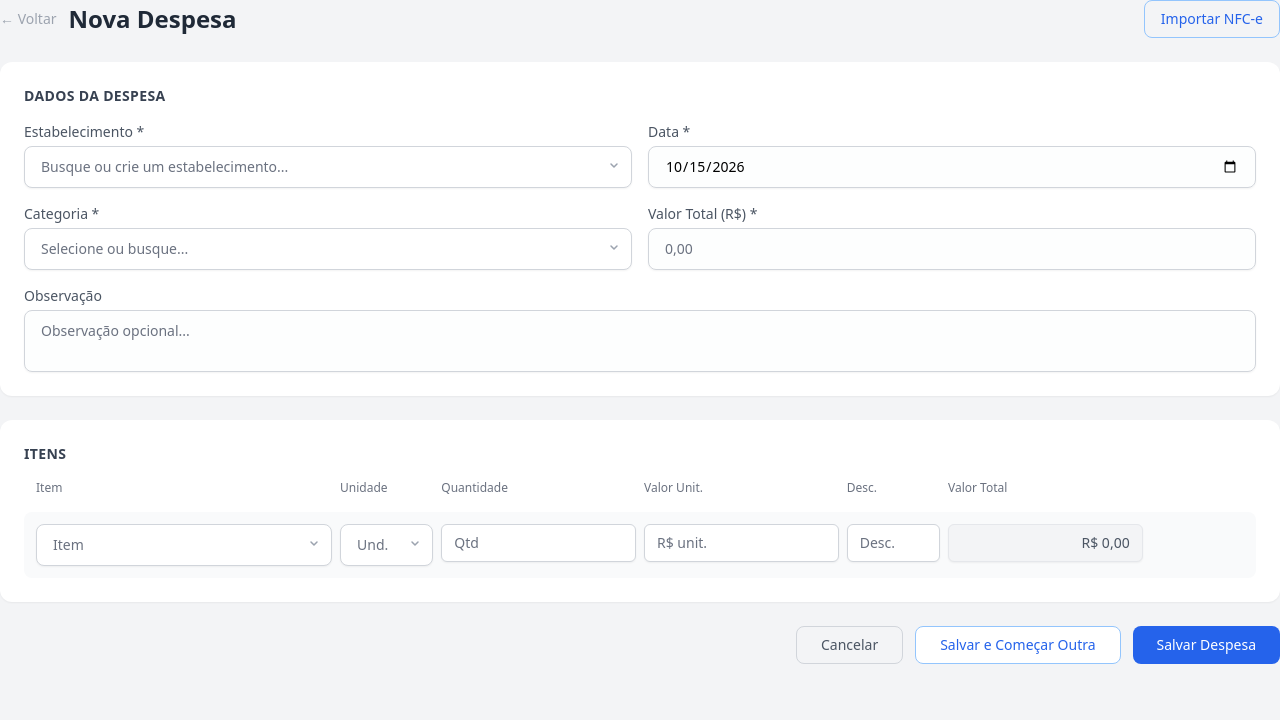
Test case: DespesaForm › remove item ao clicar no botão de remover
The image size is (1280, 720).
Type "2" into the number field with test id "item-quantidade".
click(539, 543); type("2")  # box [441,524,636,562]
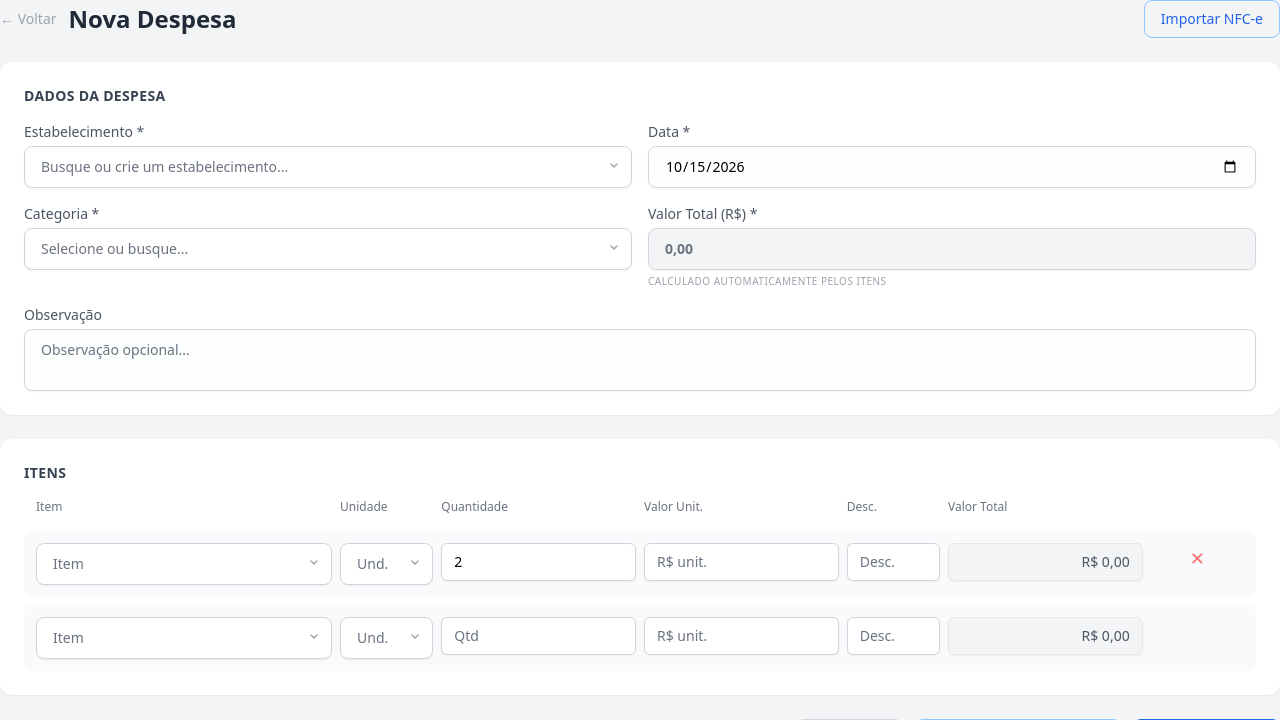
Result: the number of elements with test id "item-row" is 2 at [24,531,1256,597]; [24,605,1256,671]
Click the button with test id "item-remove".
click(1197, 558)  # box [1190,549,1205,567]
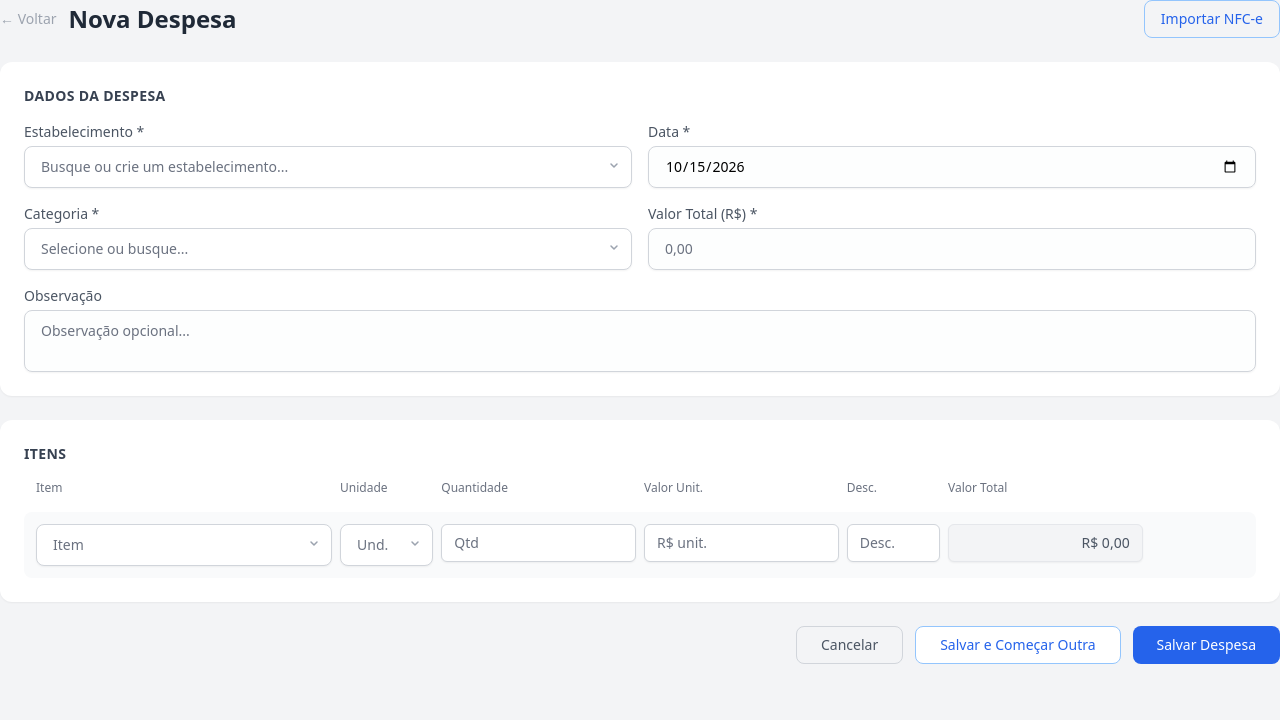
Result: the number of elements with test id "item-row" is 1 at [24,512,1256,578]
